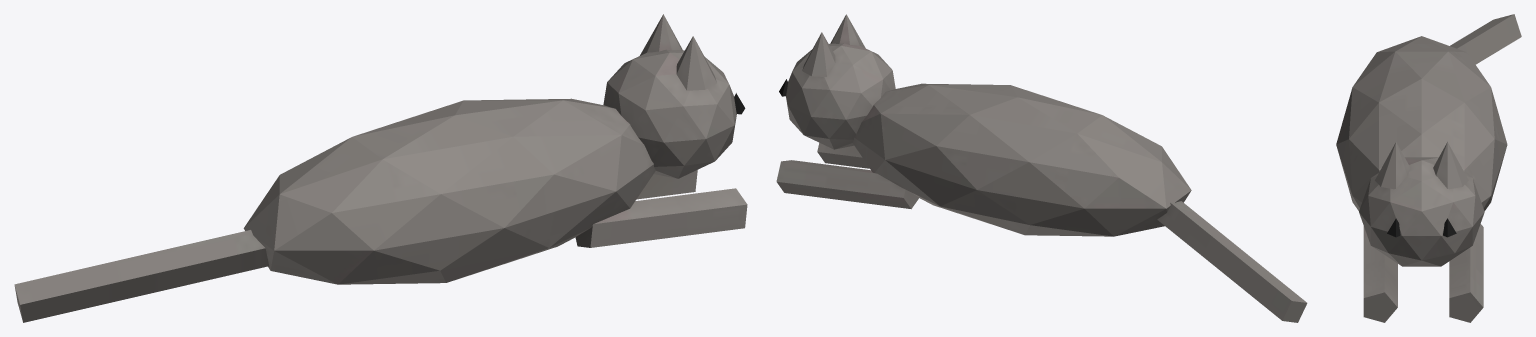
The model's file is katt_2_tex.glb.
3 renders of one model, left to right at view 1: azimuth 30°, elevation 25°; view 2: azimuth 150°, elevation 25°; view 3: azimuth 270°, elevation 25°, orthographic. The views are drawn at different scales.
Parts seen in each view (by area): view 1: katt_2; view 2: katt_2; view 3: katt_2.
Part boxes in pixels (left/top/right/bottom): katt_2: left=14, top=14, right=747, bottom=322; katt_2: left=776, top=14, right=1307, bottom=322; katt_2: left=1336, top=14, right=1521, bottom=322.
Bounding box in the file's own units: 0.779 × 0.2158 × 0.2167.
2 materials, 1 textured.
